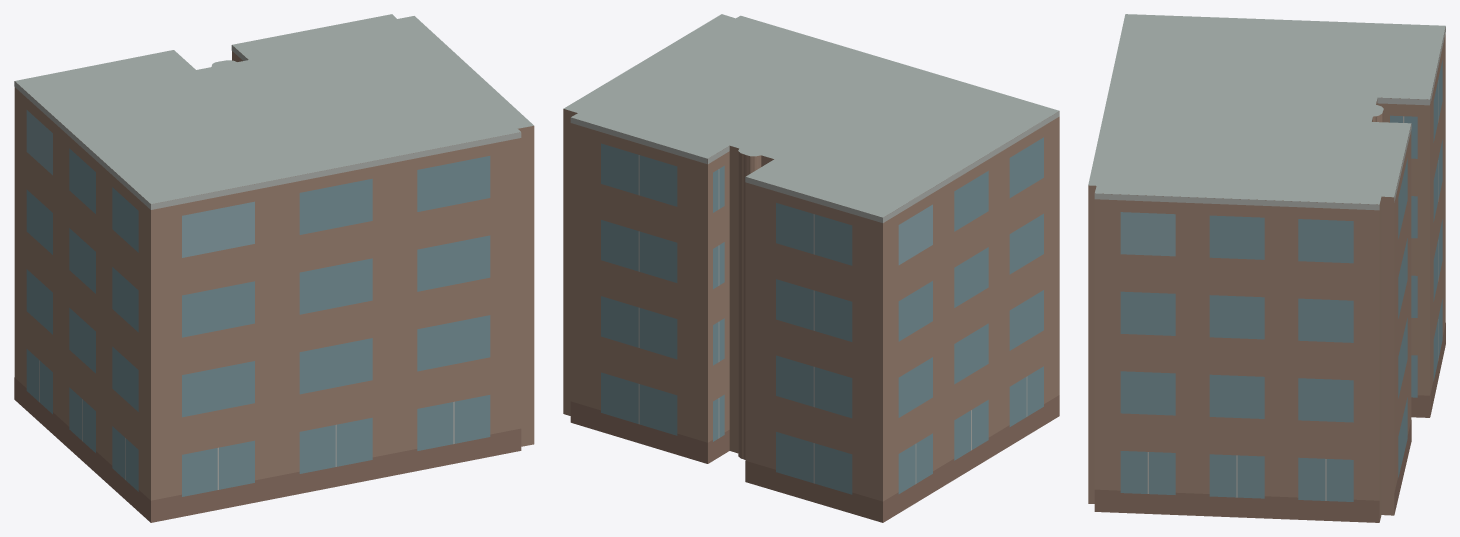
The model's file is survey-upis-32658197.glb.
3 views of the same model, side by side, from view 1: azimuth 30°, elevation 25°; view 2: azimuth 150°, elevation 25°; view 3: azimuth 270°, elevation 25° (orthographic). The views are drawn at different scales.
Visible parts, largest first — view 1: survey-upis-32658197.tmp; view 2: survey-upis-32658197.tmp; view 3: survey-upis-32658197.tmp.
Boxes of the visible parts, x1,y1,x2,y2 form: survey-upis-32658197.tmp: (14,14,534,522); survey-upis-32658197.tmp: (563,14,1059,522); survey-upis-32658197.tmp: (1088,14,1445,522).
Size of the model in its own units: 17.08 by 13.3 by 13.55.
